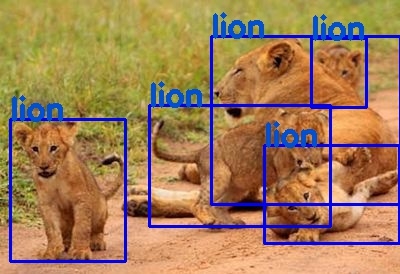lion: (211, 35, 400, 203), (149, 105, 330, 226), (10, 119, 125, 261), (264, 144, 399, 242), (311, 38, 366, 107)
